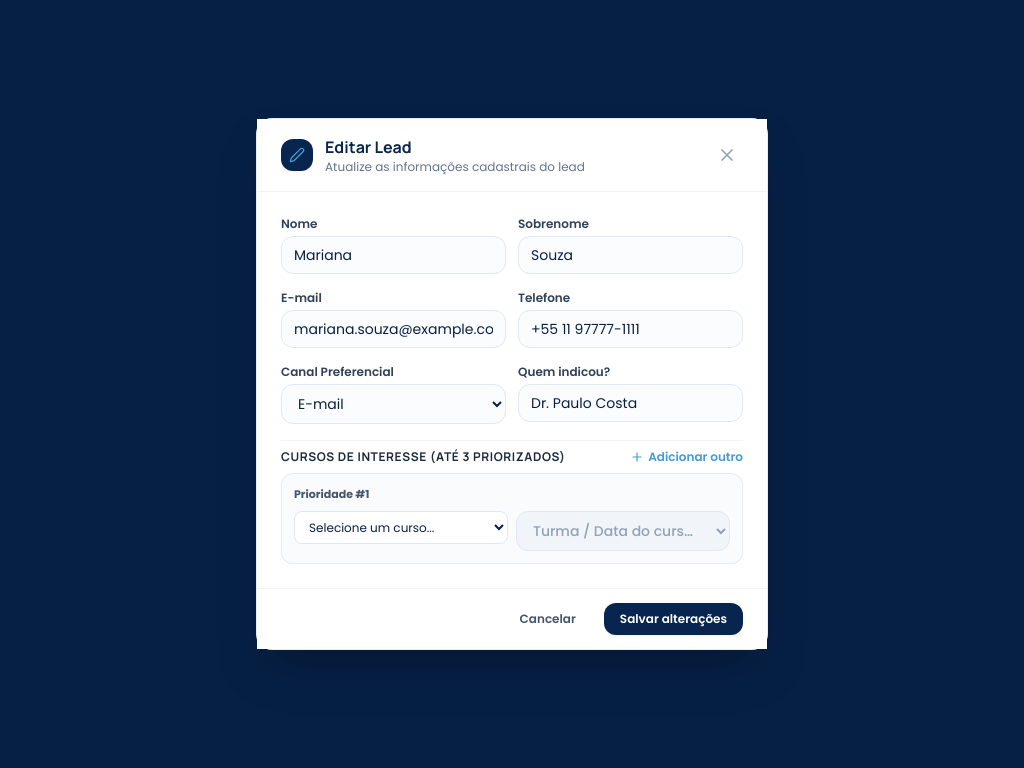
it: PART B: Edit Lead in Complete Lead Profile › 10. blocks invalid email format before submission
Replace the text in the field showing "mariana.souza@example.com" below "E-mail" with "invalid-email-without-at" at (394, 329), box x1=281 y1=310 x2=506 y2=348
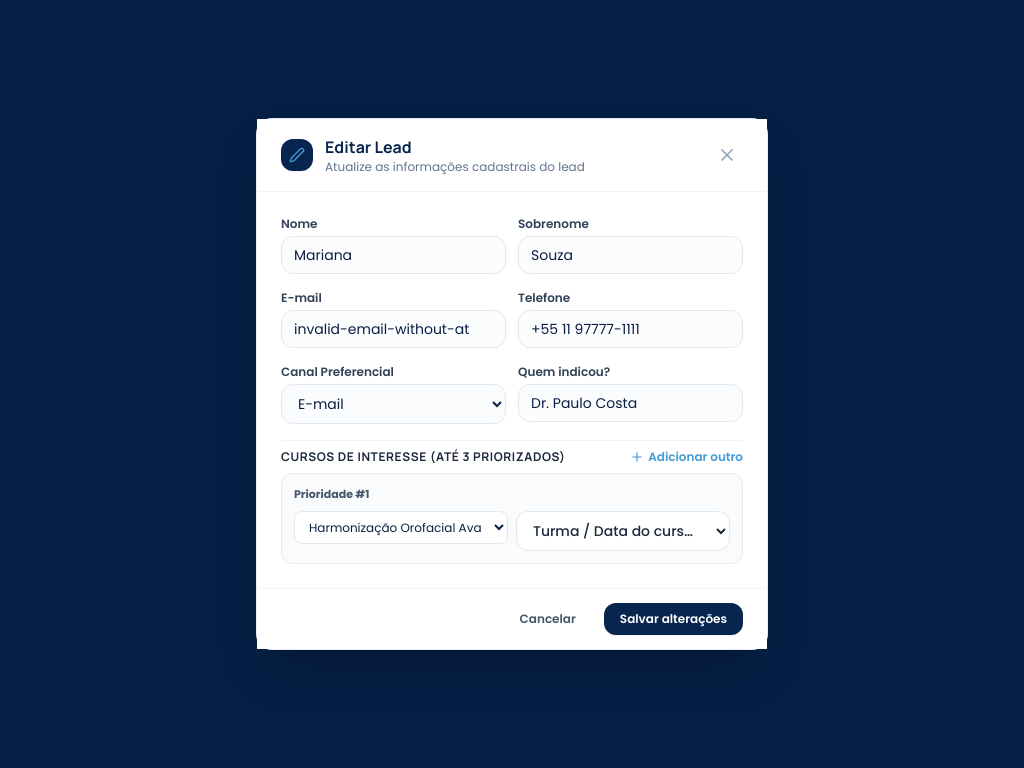
Click the button "Salvar alterações" at (673, 619), box x1=604 y1=603 x2=743 y2=635
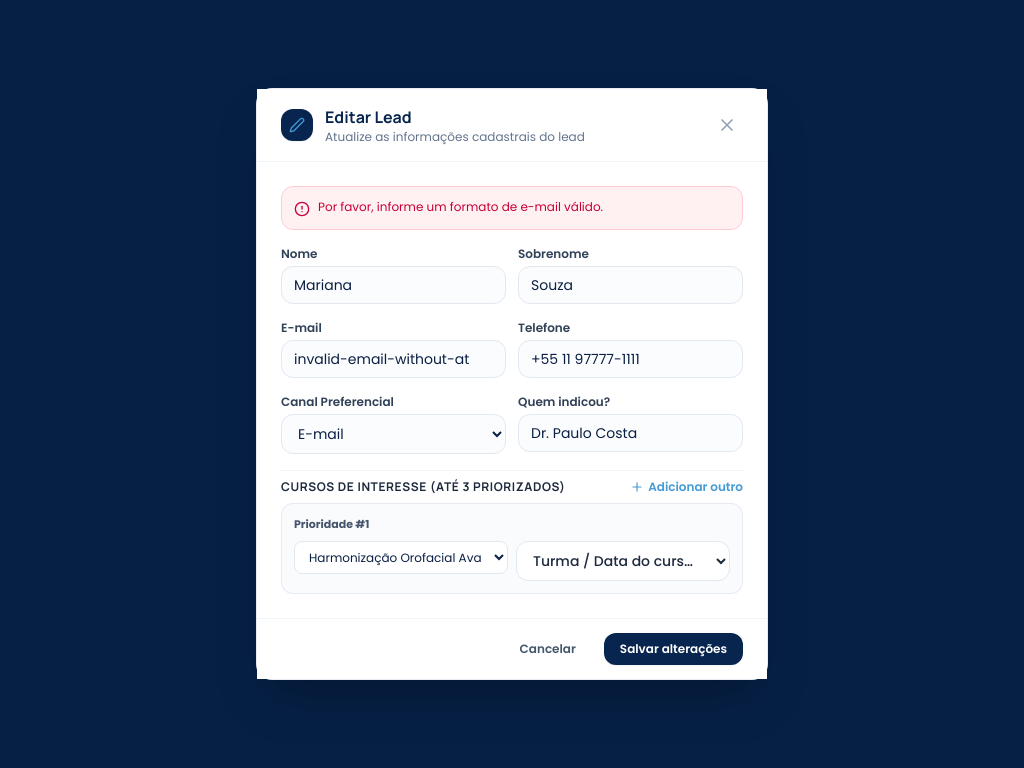
Now the text "Por favor, informe um formato de e-mail válido." is shown, box x1=318 y1=198 x2=603 y2=215
